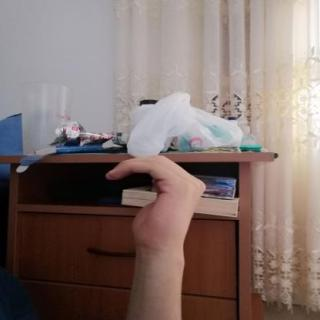HAA: (90, 148, 214, 255)
